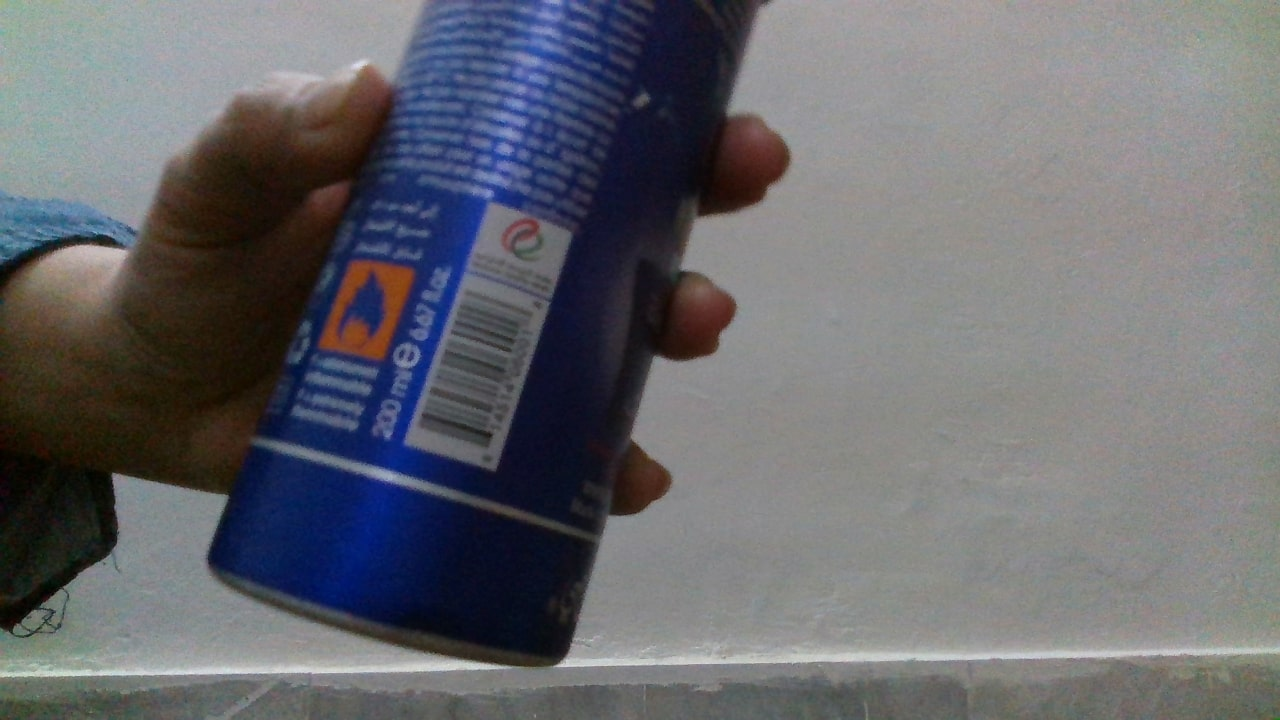Barcode: (412, 283, 538, 451)
